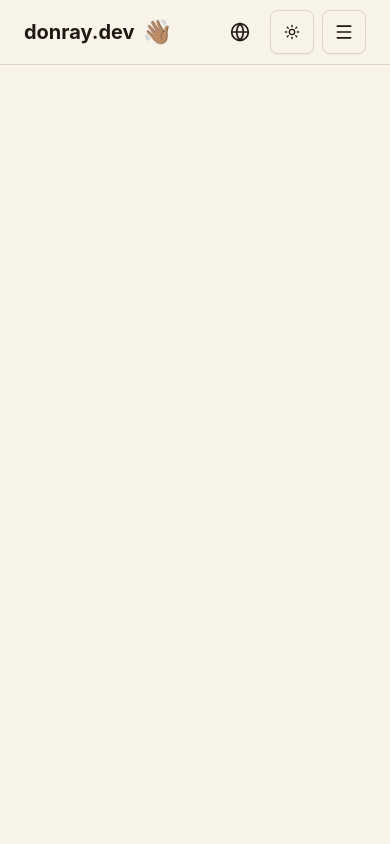
Header hide-on-scroll (mobile) › stays visible while the mobile menu is open
This screenshot has width=390, height=844.
Click the button named "Open menu" at (344, 32), box x1=322 y1=10 x2=366 y2=54
(page scrolled)
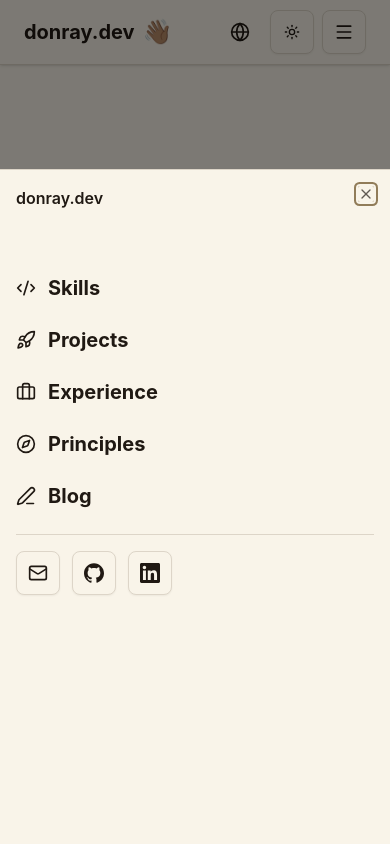
Result: the dialog is shown
